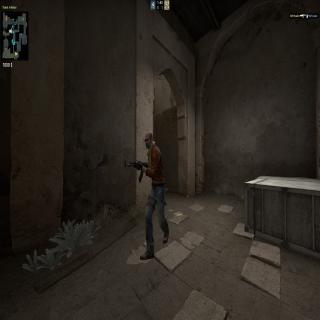T-Head: (144, 130, 153, 150)
